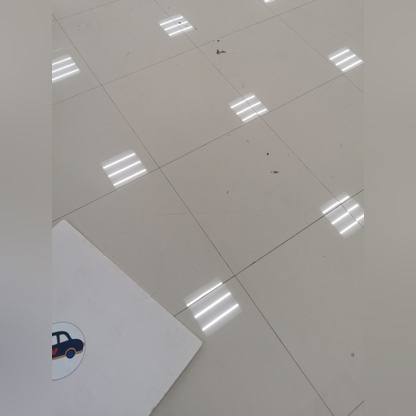car: (47, 314, 85, 380)
